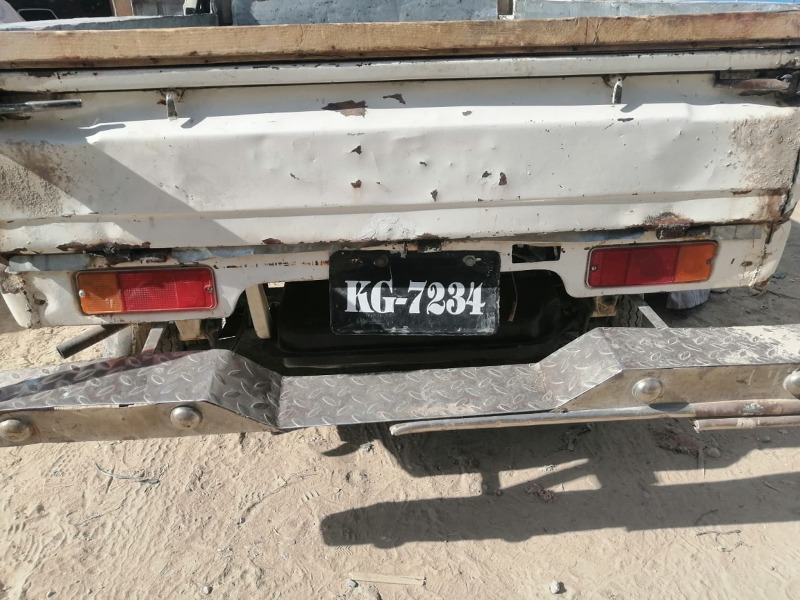License Plate: (324, 249, 502, 338)
